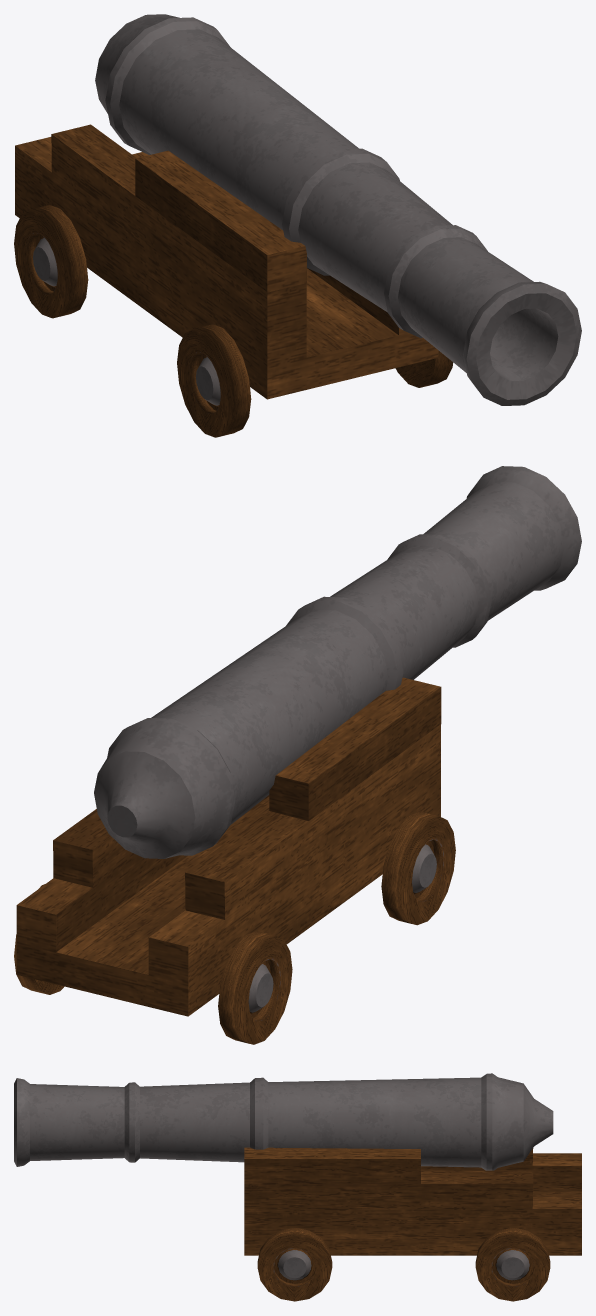
File: cannon.fbx
The picture shows the model from 3 angles, top to bottom: view 1: azimuth 30°, elevation 25°; view 2: azimuth 150°, elevation 25°; view 3: azimuth 270°, elevation 25°; orthographic projection. The views are drawn at different scales.
Parts seen in each view (by area): view 1: Cylinder, Cube.009, Cylinder.003; view 2: Cylinder, Cube.009, Cylinder.003; view 3: Cylinder, Cube.009, Cylinder.003.
Boxes of the visible parts, box(x1,y1,x2,y2) form: Cylinder: box(95, 14, 581, 405); Cube.009: box(15, 124, 438, 399); Cylinder.003: box(14, 205, 453, 437); Cylinder: box(94, 466, 581, 858); Cube.009: box(16, 677, 441, 1016); Cylinder.003: box(14, 811, 455, 1044); Cylinder: box(14, 1073, 553, 1170); Cube.009: box(244, 1147, 581, 1255); Cylinder.003: box(257, 1228, 550, 1301).
Size of the model in its own units: 4.61 by 5.54 by 15.21.
Materials: 1 (1 with a texture image).
